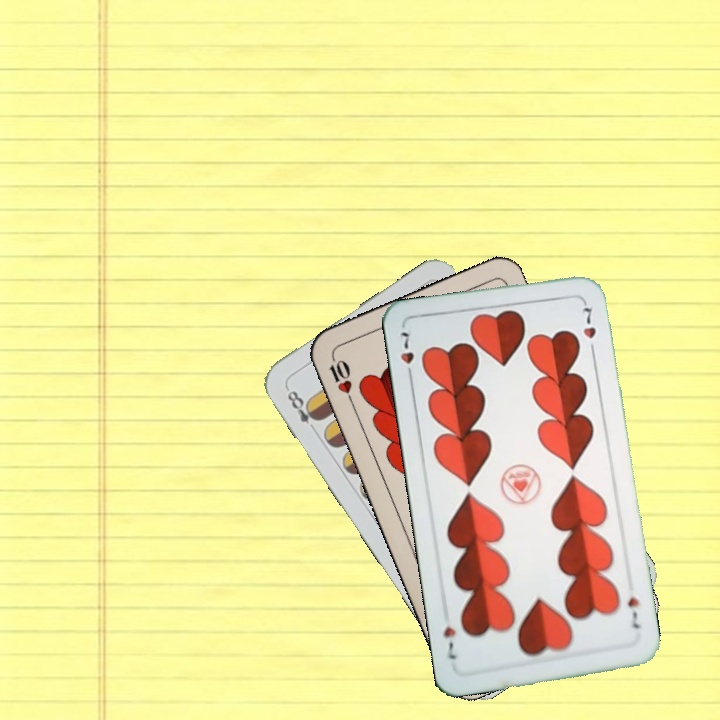E8: (282, 383, 324, 436)
H10: (325, 351, 357, 408)
H7: (396, 327, 417, 384), (624, 593, 642, 631)
